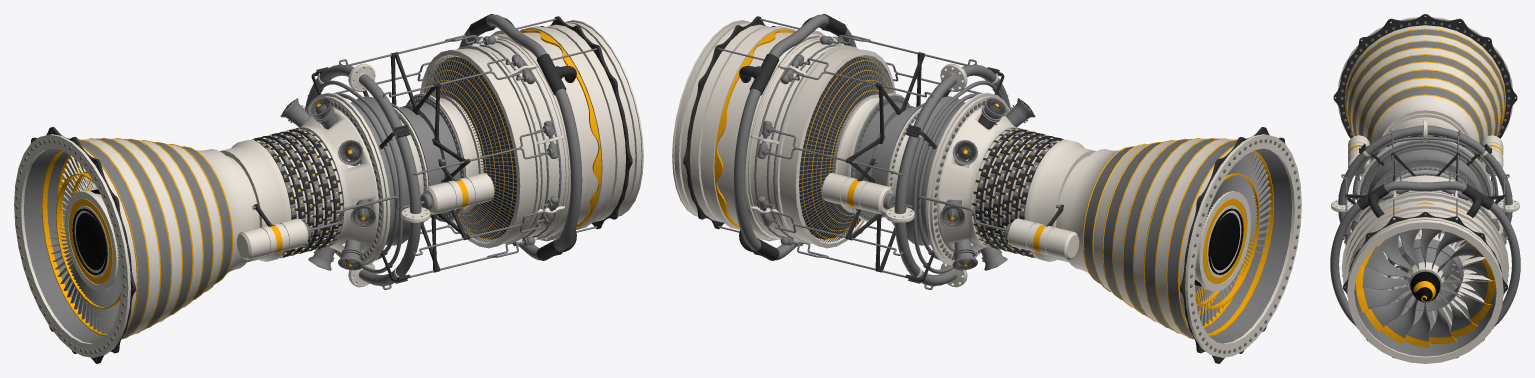
Rendered from 涡轮增压.glb.
3 renders of one model, left to right at view 1: azimuth 30°, elevation 25°; view 2: azimuth 150°, elevation 25°; view 3: azimuth 270°, elevation 25°, orthographic. The views are drawn at different scales.
Parts seen in each view (by area): view 1: Object_9, Object_18, Object_17, Object_12, Object_5, Object_4, Object_16, Object_8, Object_13, Object_15, Object_3, Object_2 (+6 smaller); view 2: Object_9, Object_18, Object_17, Object_12, Object_5, Object_4, Object_16, Object_8, Object_13, Object_15, Object_3, Object_2 (+5 smaller); view 3: Object_9, Object_18, Object_17, Object_15, Object_5, Object_12, Object_4, Object_8, Object_2, Object_3, Object_20, Object_14.
Part boxes in pixels (x1=…): Object_9: x1=14, y1=20, x2=643, y2=357; Object_18: x1=24, y1=97, x2=375, y2=343; Object_17: x1=304, y1=14, x2=582, y2=289; Object_12: x1=30, y1=14, x2=632, y2=363; Object_5: x1=42, y1=29, x2=601, y2=338; Object_4: x1=350, y1=95, x2=465, y2=246; Object_16: x1=252, y1=18, x2=597, y2=242; Object_8: x1=60, y1=156, x2=494, y2=260; Object_13: x1=252, y1=128, x2=343, y2=257; Object_15: x1=49, y1=217, x2=121, y2=334; Object_3: x1=72, y1=189, x2=107, y2=274; Object_2: x1=317, y1=36, x2=564, y2=287; Object_9: x1=672, y1=20, x2=1301, y2=357; Object_18: x1=940, y1=97, x2=1291, y2=343; Object_17: x1=733, y1=14, x2=1011, y2=289; Object_12: x1=683, y1=14, x2=1285, y2=363; Object_5: x1=714, y1=29, x2=1273, y2=338; Object_4: x1=850, y1=95, x2=965, y2=246; Object_16: x1=718, y1=18, x2=1063, y2=242; Object_8: x1=821, y1=173, x2=1247, y2=326; Object_13: x1=972, y1=128, x2=1063, y2=257; Object_15: x1=1199, y1=151, x2=1271, y2=285; Object_3: x1=1194, y1=208, x2=1243, y2=286; Object_2: x1=751, y1=36, x2=998, y2=287; Object_9: x1=1338, y1=16, x2=1512, y2=363; Object_18: x1=1345, y1=29, x2=1505, y2=356; Object_17: x1=1330, y1=126, x2=1520, y2=326; Object_15: x1=1362, y1=228, x2=1488, y2=341; Object_5: x1=1344, y1=28, x2=1506, y2=348; Object_12: x1=1333, y1=14, x2=1517, y2=358; Object_4: x1=1360, y1=140, x2=1490, y2=311; Object_8: x1=1348, y1=135, x2=1503, y2=325; Object_2: x1=1331, y1=119, x2=1519, y2=233; Object_3: x1=1410, y1=271, x2=1440, y2=302; Object_20: x1=1340, y1=21, x2=1510, y2=196; Object_14: x1=1344, y1=190, x2=1506, y2=244.
Bounding box in the file's own units: 4.01 × 1.57 × 1.59.
